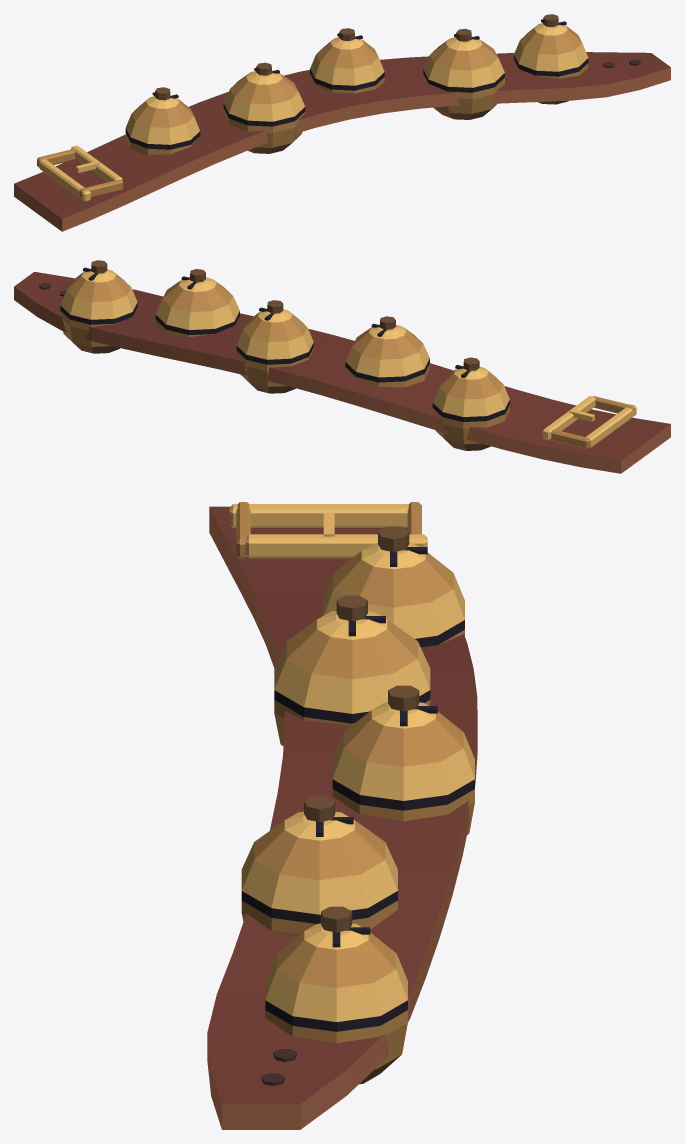
File: brass_sleigh_bells.glb
The picture shows the model from 3 angles, top to bottom: view 1: azimuth 30°, elevation 25°; view 2: azimuth 150°, elevation 25°; view 3: azimuth 270°, elevation 25°; orthographic projection. The views are drawn at different scales.
Visible parts, largest first — view 1: brass_sleigh_bell_strap; view 2: brass_sleigh_bell_strap; view 3: brass_sleigh_bell_strap.
Boxes of the visible parts, left/top/right/bottom form: brass_sleigh_bell_strap: left=14, top=14, right=670, bottom=231; brass_sleigh_bell_strap: left=14, top=260, right=670, bottom=473; brass_sleigh_bell_strap: left=207, top=502, right=477, bottom=1129.
Bounding box in the file's own units: 0.396 × 0.06 × 0.0758.
